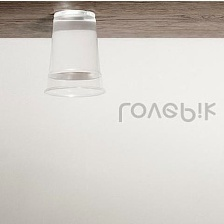glass: (38, 3, 116, 103)
